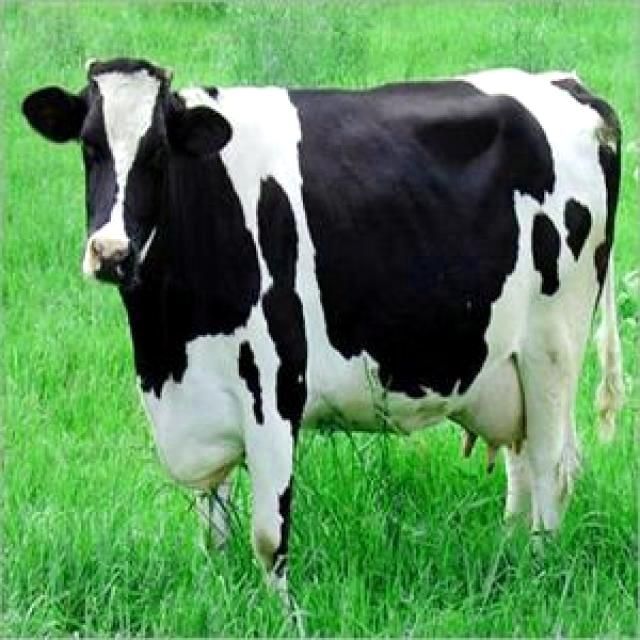COW: (24, 59, 621, 586)
